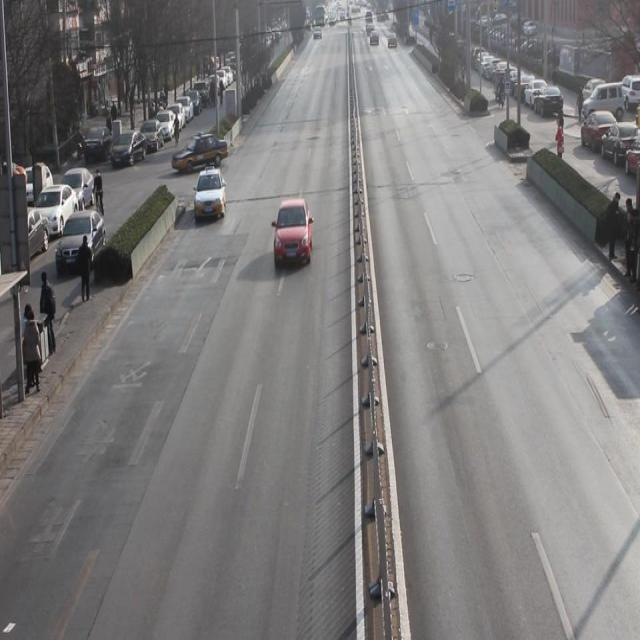car: (272, 194, 313, 273), (195, 164, 228, 226)
